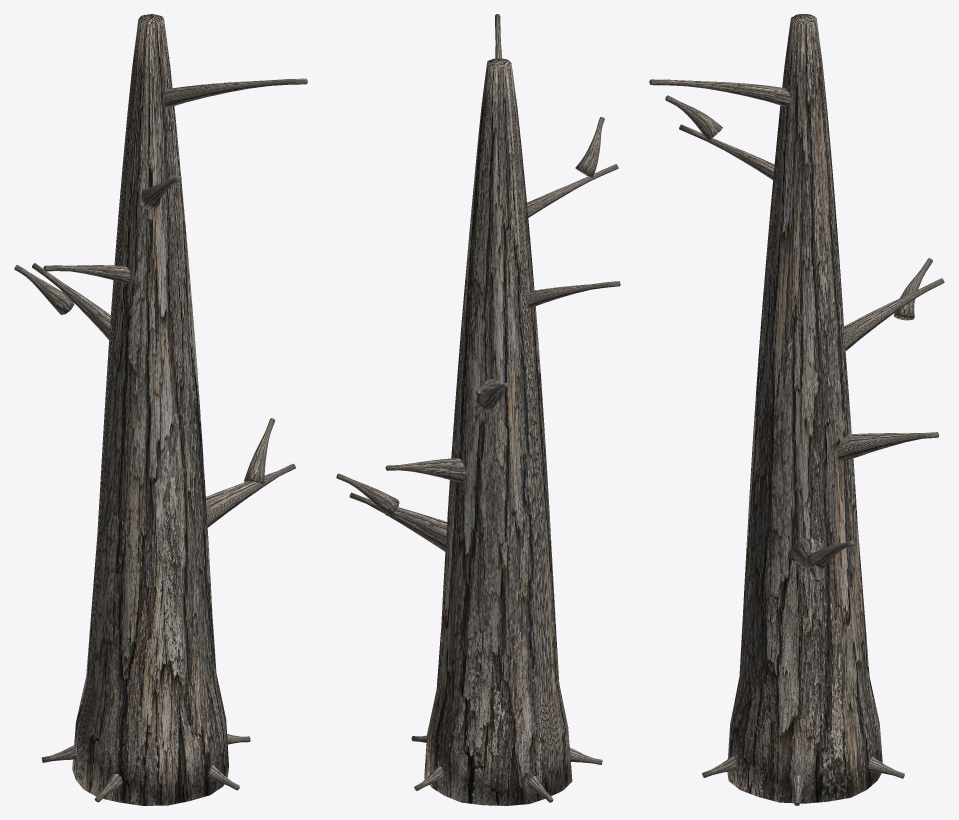
Rendered from upright-slim-v01.glb.
3 views of the same model, side by side, from view 1: azimuth 30°, elevation 25°; view 2: azimuth 150°, elevation 25°; view 3: azimuth 270°, elevation 25° (orthographic). The views are drawn at different scales.
Visible parts, largest first — view 1: tronco vertical sem inclinação, galho firme ascendente.005, galho firme ascendente, galho firme ascendente.002, galho firme ascendente.003, ramo fino ascendente.001, ramo fino ascendente, ramo fino ascendente.002; view 2: tronco vertical sem inclinação, galho firme ascendente, galho firme ascendente.001, galho firme ascendente.003, galho firme ascendente.004, ramo fino ascendente, ramo fino ascendente.002; view 3: tronco vertical sem inclinação, galho firme ascendente.005, galho firme ascendente.001, galho firme ascendente.002, galho firme ascendente.004, ramo fino ascendente.002, ramo fino ascendente.001, galho firme ascendente, ramo fino ascendente.
Boxes of the visible parts, x1,y1,x2,y2 form: tronco vertical sem inclinação: [72, 14, 228, 805]; galho firme ascendente.005: [163, 78, 307, 107]; galho firme ascendente: [206, 463, 295, 527]; galho firme ascendente.002: [32, 263, 110, 339]; galho firme ascendente.003: [43, 265, 130, 283]; ramo fino ascendente.001: [14, 265, 74, 314]; ramo fino ascendente: [244, 418, 275, 484]; ramo fino ascendente.002: [140, 175, 181, 209]; tronco vertical sem inclinação: [424, 58, 572, 805]; galho firme ascendente: [349, 492, 446, 551]; galho firme ascendente.001: [385, 458, 466, 482]; galho firme ascendente.003: [527, 281, 620, 308]; galho firme ascendente.004: [527, 164, 618, 217]; ramo fino ascendente: [336, 473, 399, 515]; ramo fino ascendente.002: [575, 117, 604, 177]; tronco vertical sem inclinação: [727, 14, 882, 803]; galho firme ascendente.005: [649, 79, 790, 106]; galho firme ascendente.001: [837, 432, 938, 461]; galho firme ascendente.002: [844, 278, 944, 350]; galho firme ascendente.004: [679, 124, 774, 179]; ramo fino ascendente.002: [665, 95, 722, 140]; ramo fino ascendente.001: [894, 258, 932, 320]; galho firme ascendente: [792, 538, 823, 581]; ramo fino ascendente: [805, 540, 855, 571].
Bounding box in the file's own units: 1.3 × 3.5 × 1.25.
1 material, 1 textured.
